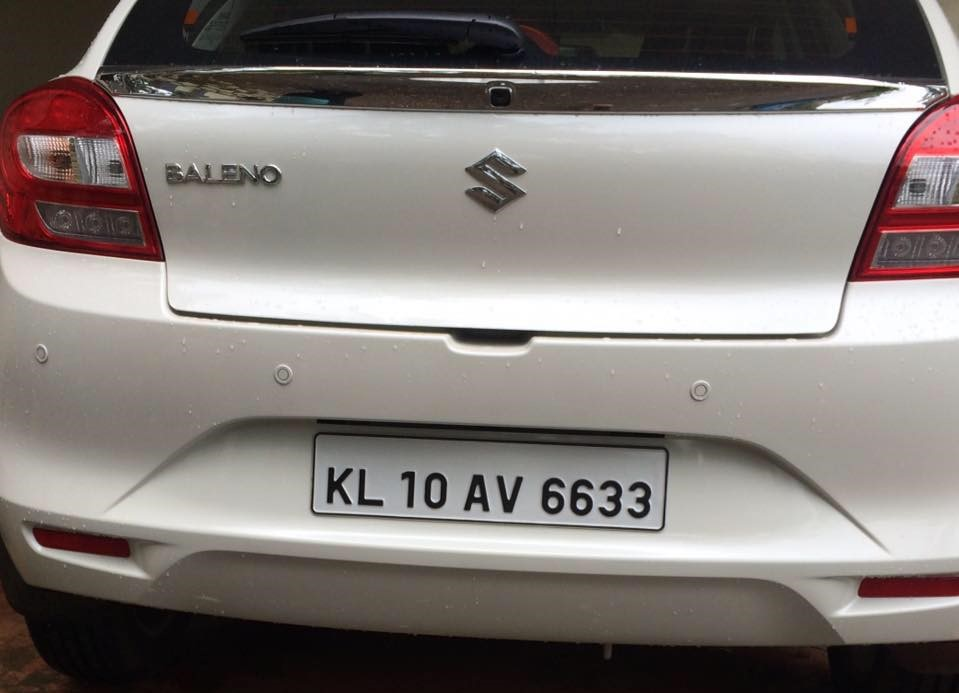KL10AV6633: (311, 429, 670, 533)
